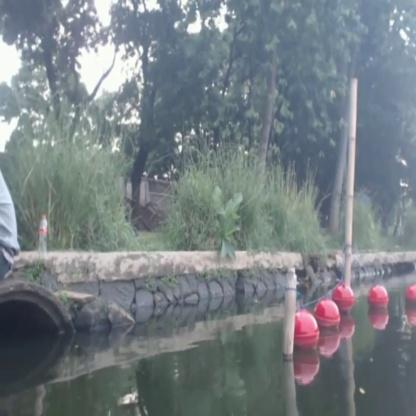red_buoy: (298, 313, 318, 349), (366, 285, 388, 314), (318, 303, 338, 332), (340, 285, 352, 318)
